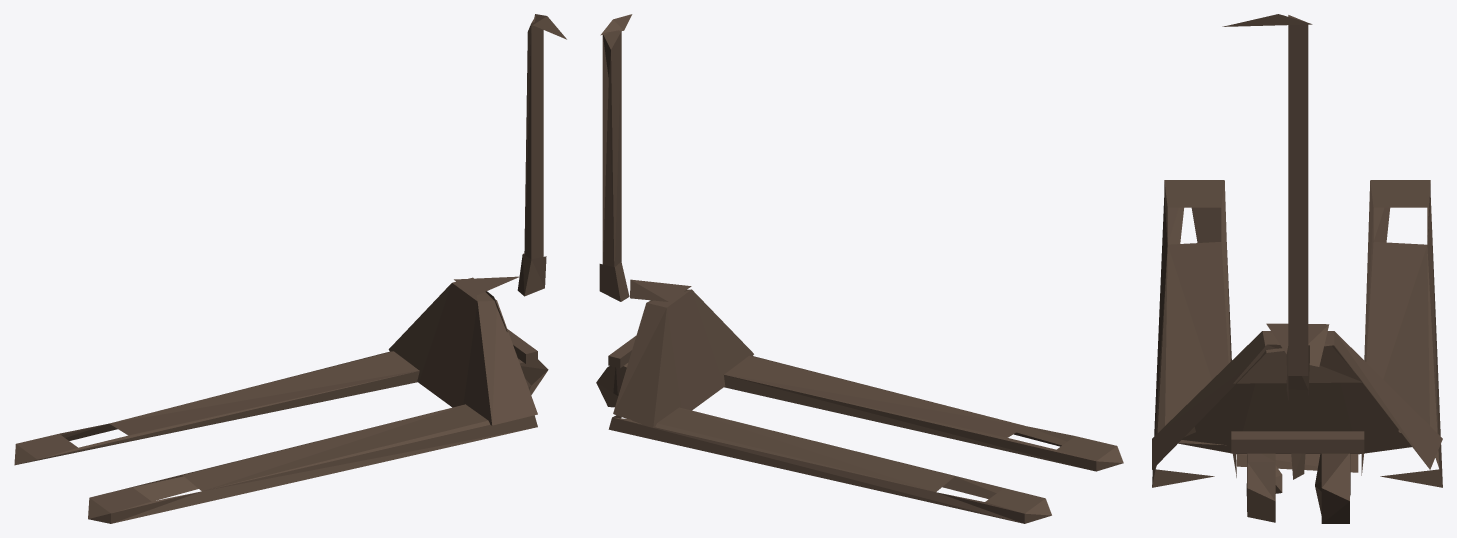
File: pallet-truck.lod1.glb
3 renders of one model, left to right at view 1: azimuth 30°, elevation 25°; view 2: azimuth 150°, elevation 25°; view 3: azimuth 270°, elevation 25°, orthographic. The views are drawn at different scales.
Visible parts, largest first — view 1: defaultMaterial; view 2: defaultMaterial; view 3: defaultMaterial.
Boxes of the visible parts, <box> form: defaultMaterial: <box>14,14,566,523</box>; defaultMaterial: <box>596,14,1123,523</box>; defaultMaterial: <box>1152,14,1442,523</box>.
Bounding box in the file's own units: 1.58 × 1.15 × 0.5749.
